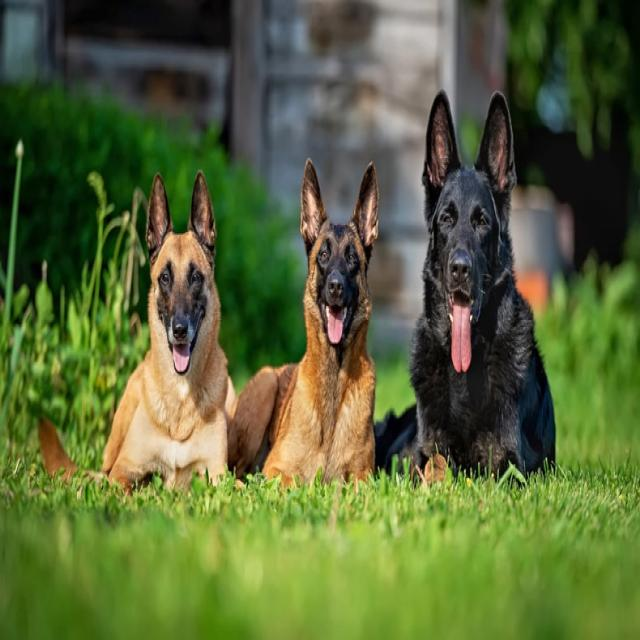GERMAN_SHEPHERD: (43, 155, 239, 530), (216, 133, 398, 525)
